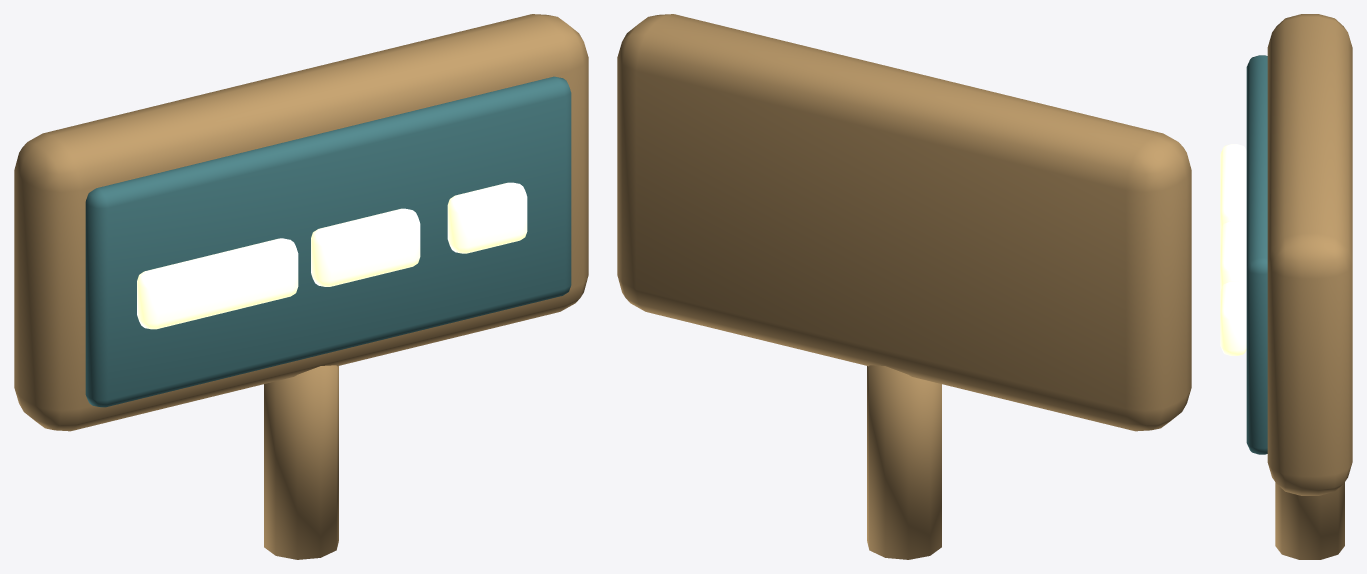
File: reward-content-marquee.glb
The picture shows the model from 3 angles, left to right: view 1: azimuth 30°, elevation 25°; view 2: azimuth 150°, elevation 25°; view 3: azimuth 270°, elevation 25°; orthographic projection. The views are drawn at different scales.
Visible parts, largest first — view 1: marquee face, marquee board, marquee post, marquee text -0.17, marquee text 0.03, marquee text 0.195; view 2: marquee board, marquee post; view 3: marquee board, marquee face, marquee post, marquee text -0.17, marquee text 0.195, marquee text 0.03.
Boxes of the visible parts, <box> form: marquee face: <box>85,76,571,407</box>; marquee board: <box>14,14,588,431</box>; marquee post: <box>264,365,338,559</box>; marquee text -0.17: <box>137,238,298,329</box>; marquee text 0.03: <box>311,208,420,286</box>; marquee text 0.195: <box>447,182,527,253</box>; marquee board: <box>617,14,1191,431</box>; marquee post: <box>867,365,941,559</box>; marquee board: <box>1267,14,1352,495</box>; marquee face: <box>1246,55,1267,454</box>; marquee post: <box>1275,482,1344,559</box>; marquee text -0.17: <box>1220,144,1246,230</box>; marquee text 0.195: <box>1220,281,1246,355</box>; marquee text 0.03: <box>1220,221,1246,290</box>.
Bounding box in the file's own units: 0.75 × 0.6 × 0.171.
